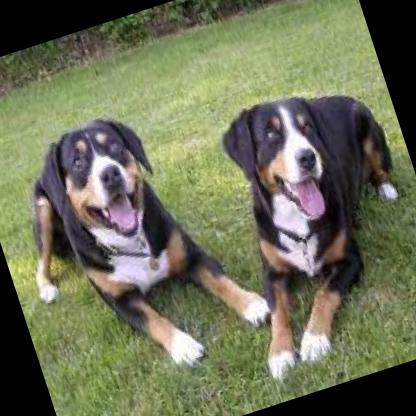EntleBucher: (0, 82, 277, 403), (195, 68, 416, 377)
